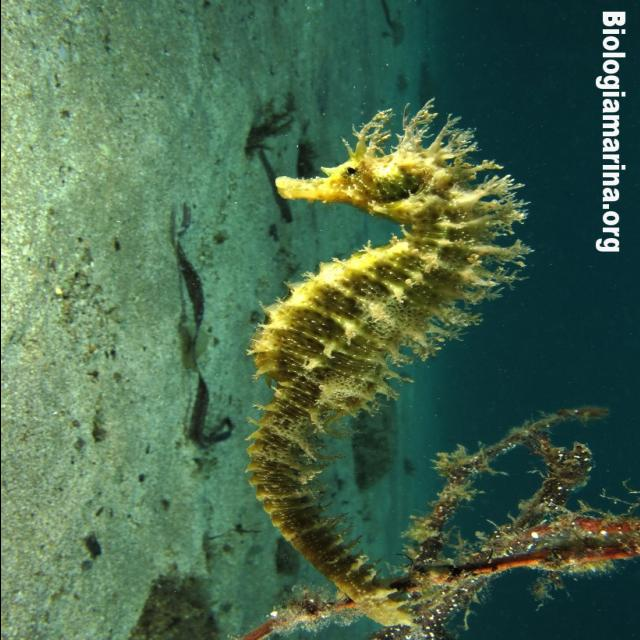Guttu: (262, 138, 496, 226)
